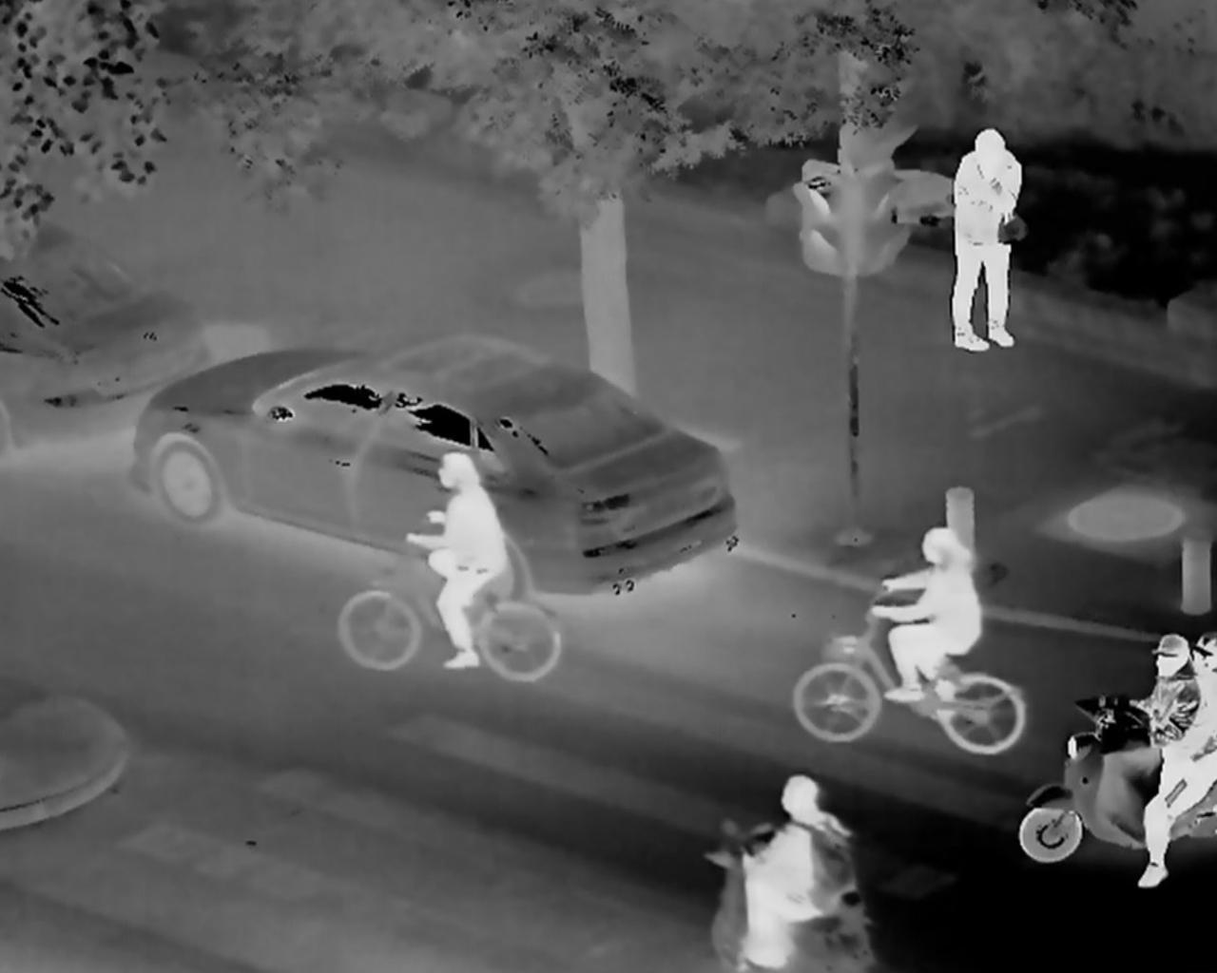person: (399, 438, 527, 677), (720, 773, 858, 973), (935, 123, 1041, 371), (860, 519, 989, 722), (1120, 625, 1194, 891), (1188, 633, 1217, 821)
